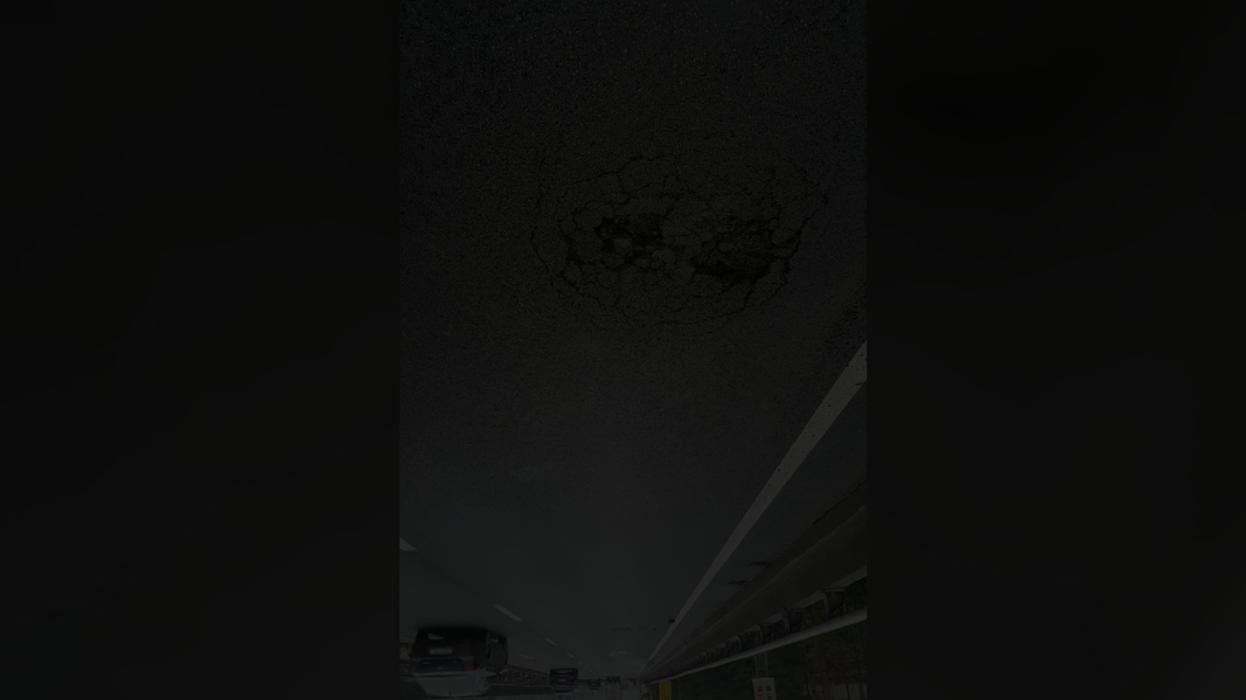pothole: (565, 177, 798, 333)
